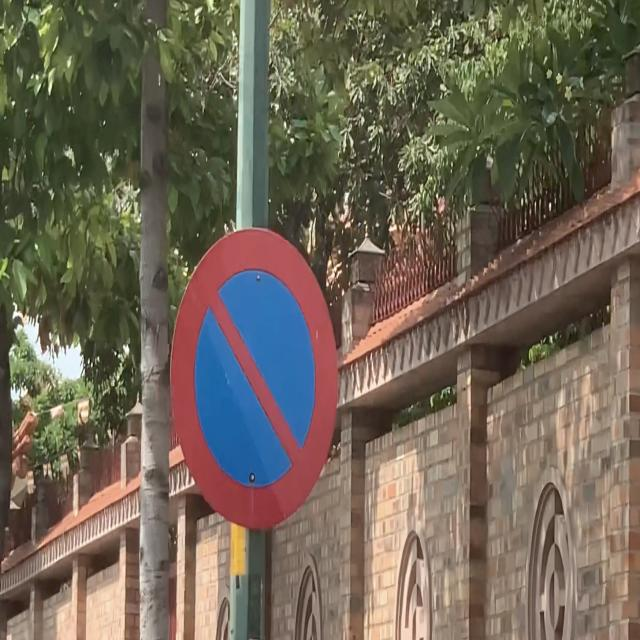Cam do: (168, 223, 338, 532)
